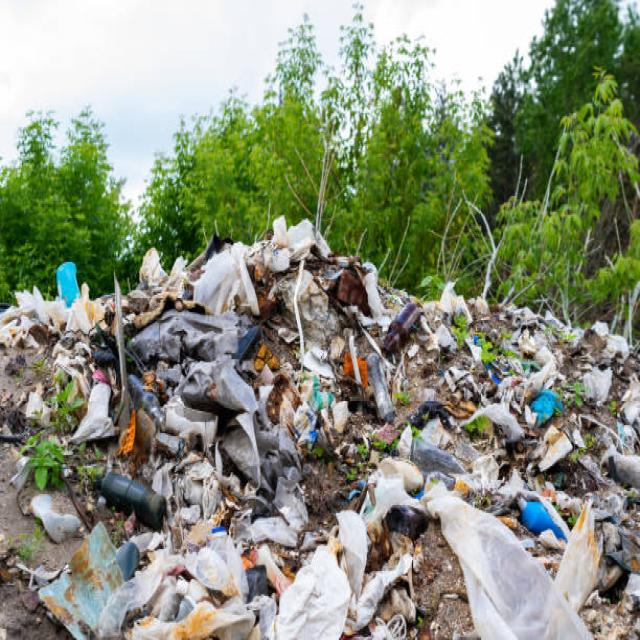plastic: (86, 295, 592, 583)
